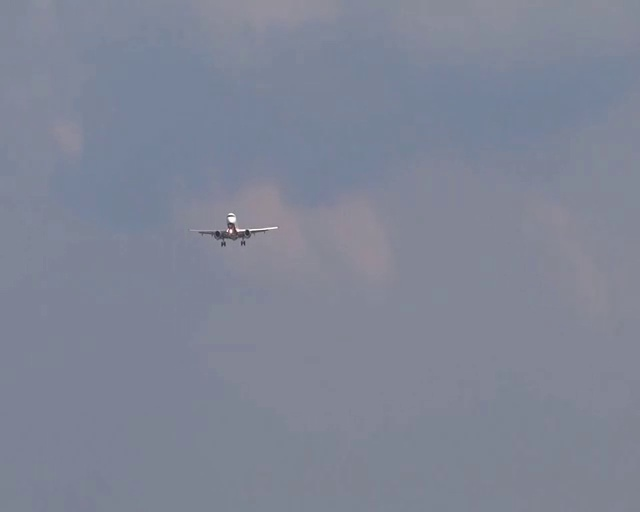AIRPLANE: (190, 213, 278, 247)
